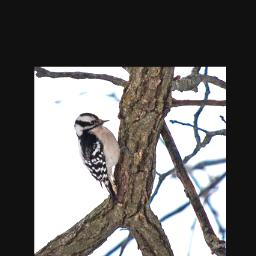Woodpecker: (73, 112, 132, 202)
